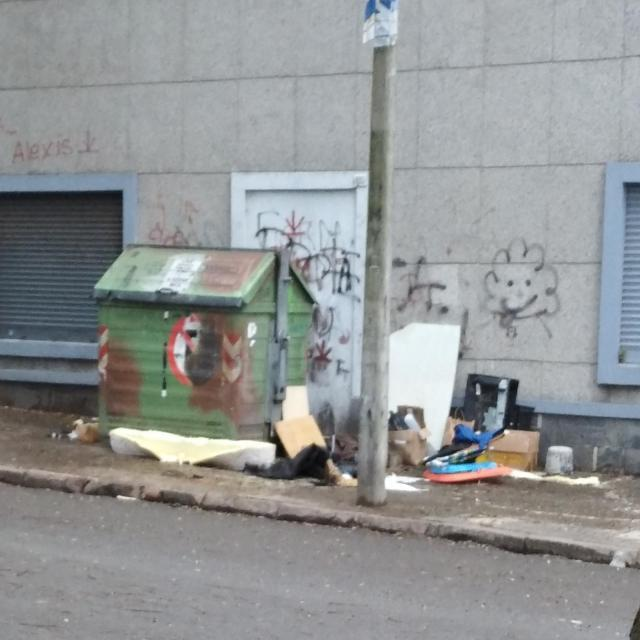garbage: (352, 292, 626, 510), (68, 418, 377, 488)
